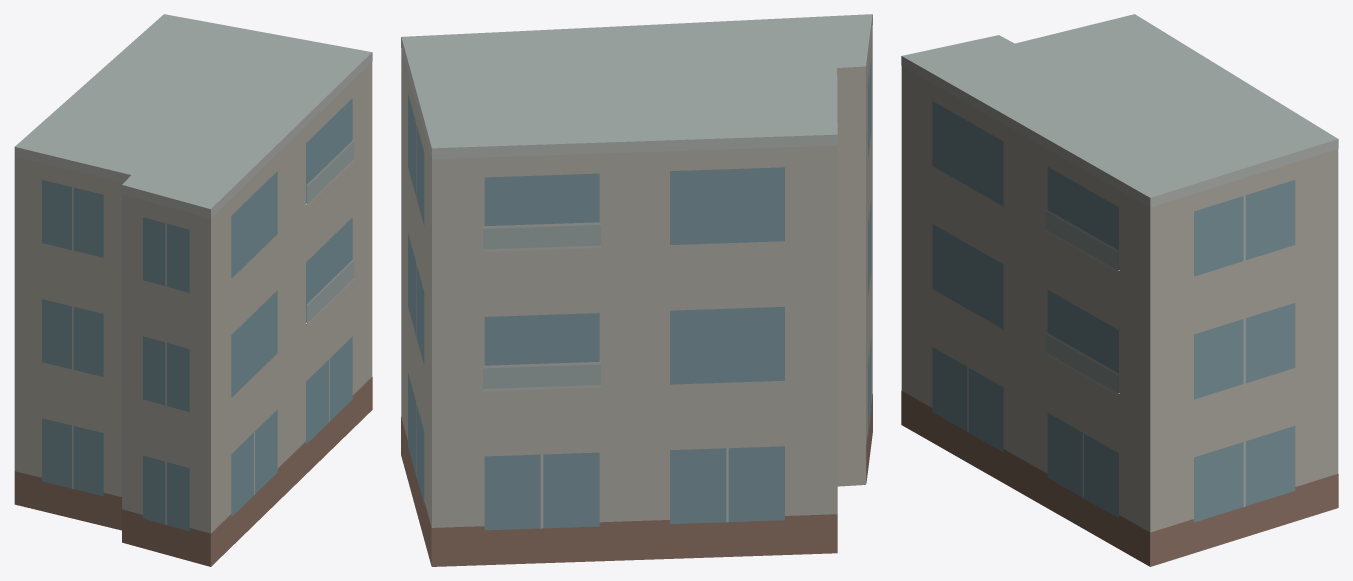
File: survey-upis-32933502.glb
The picture shows the model from 3 angles, left to right: view 1: azimuth 30°, elevation 25°; view 2: azimuth 150°, elevation 25°; view 3: azimuth 270°, elevation 25°; orthographic projection. The views are drawn at different scales.
Parts seen in each view (by area): view 1: survey-upis-32933502.tmp; view 2: survey-upis-32933502.tmp; view 3: survey-upis-32933502.tmp.
Boxes of the visible parts, x1=… form: survey-upis-32933502.tmp: x1=14, y1=14, x2=372, y2=566; survey-upis-32933502.tmp: x1=401, y1=14, x2=872, y2=566; survey-upis-32933502.tmp: x1=901, y1=14, x2=1338, y2=566.
Bounding box in the file's own units: 9.95 × 9.3 × 9.99.
